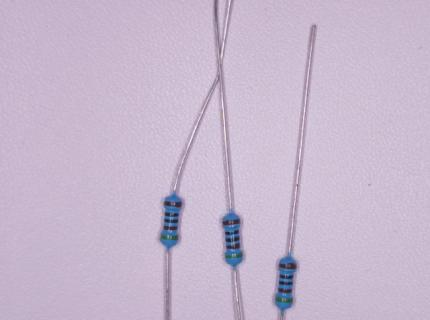Black band: (226, 236, 239, 242), (225, 230, 239, 235), (279, 274, 293, 279), (164, 213, 179, 217), (164, 219, 178, 223), (279, 281, 293, 285)
Brown band: (164, 201, 182, 208), (279, 263, 297, 270), (223, 219, 240, 225), (278, 287, 293, 293), (227, 243, 241, 249), (164, 225, 177, 230)
Green band: (275, 297, 293, 303), (160, 235, 178, 240), (225, 254, 242, 258)
